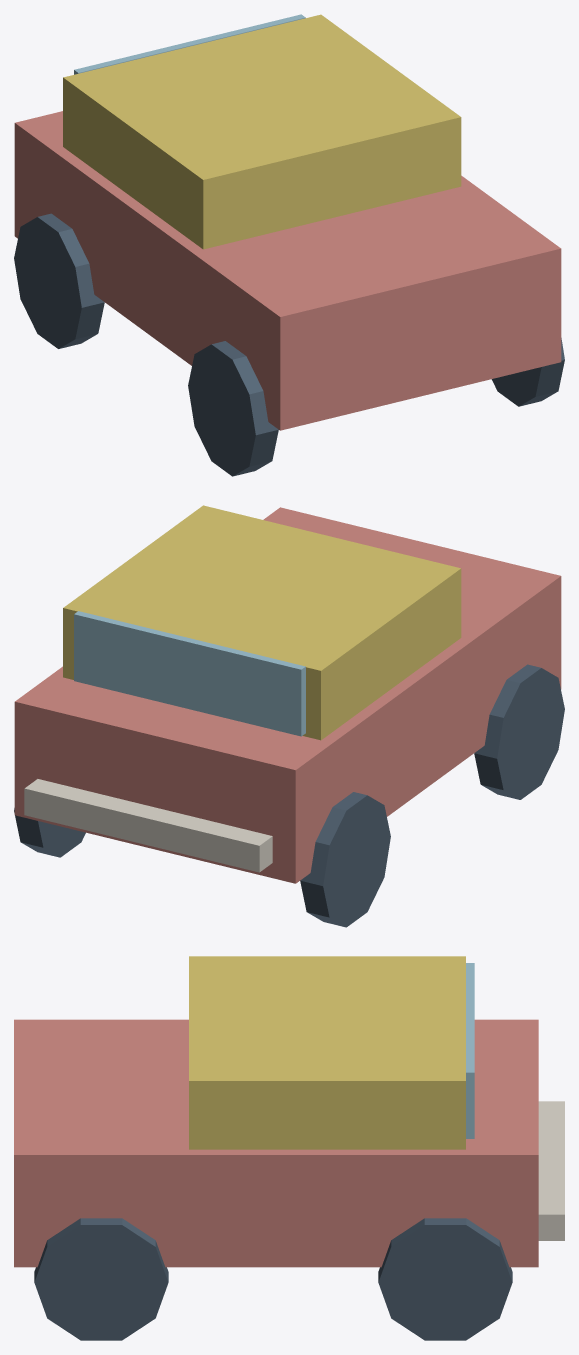
File: RallyCar.glb
3 renders of one model, top to bottom at view 1: azimuth 30°, elevation 25°; view 2: azimuth 150°, elevation 25°; view 3: azimuth 270°, elevation 25°, orthographic.
Parts seen in each view (by area): view 1: Part_00, Part_01, Part_05, Part_04, Part_07, Part_02; view 2: Part_00, Part_01, Part_02, Part_03, Part_04, Part_05, Part_06; view 3: Part_00, Part_01, Part_06, Part_07, Part_03, Part_02.
Boxes of the visible parts, x1,y1,x2,y2 form: Part_00: (14, 111, 561, 430); Part_01: (63, 14, 461, 249); Part_05: (188, 341, 278, 476); Part_04: (14, 213, 104, 348); Part_07: (491, 338, 564, 406); Part_02: (74, 14, 305, 74); Part_00: (14, 507, 561, 883); Part_01: (63, 505, 461, 740); Part_02: (74, 611, 305, 736); Part_03: (24, 779, 272, 872); Part_04: (300, 792, 390, 927); Part_05: (474, 664, 564, 799); Part_06: (14, 808, 85, 857); Part_00: (14, 1019, 538, 1267); Part_01: (189, 956, 465, 1149); Part_06: (378, 1218, 512, 1340); Part_07: (34, 1218, 168, 1340); Part_03: (538, 1101, 564, 1240); Part_02: (466, 963, 474, 1138).
Bounding box in the file's own units: 2.42 × 1.88 × 3.78.
